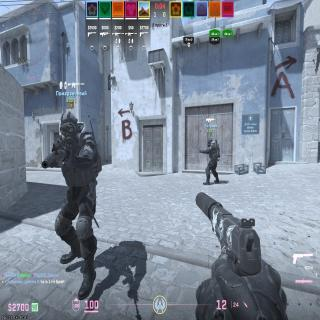CT-Body: (49, 111, 102, 299), (203, 138, 220, 184)
CT-Head: (59, 111, 78, 145), (207, 138, 213, 147)
